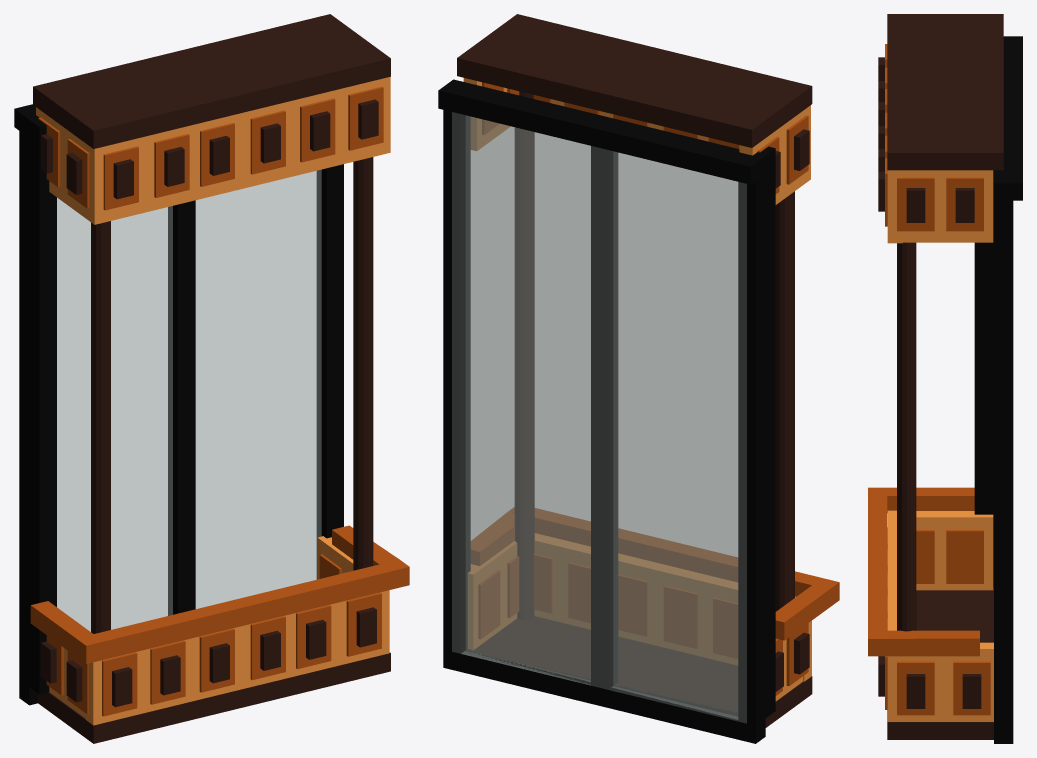
3 views of the same model, side by side, from view 1: azimuth 30°, elevation 25°; view 2: azimuth 150°, elevation 25°; view 3: azimuth 270°, elevation 25° (orthographic). The views are drawn at different scales.
Parts seen in each view (by area): view 1: group1198767915; view 2: group1198767915; view 3: group1198767915.
Part boxes in pixels (box(x1,y1,x2,y2)): group1198767915: box(14, 14, 409, 743); group1198767915: box(438, 14, 839, 743); group1198767915: box(868, 14, 1022, 743).
Size of the model in its own units: 0.37 by 0.67 by 0.16.
